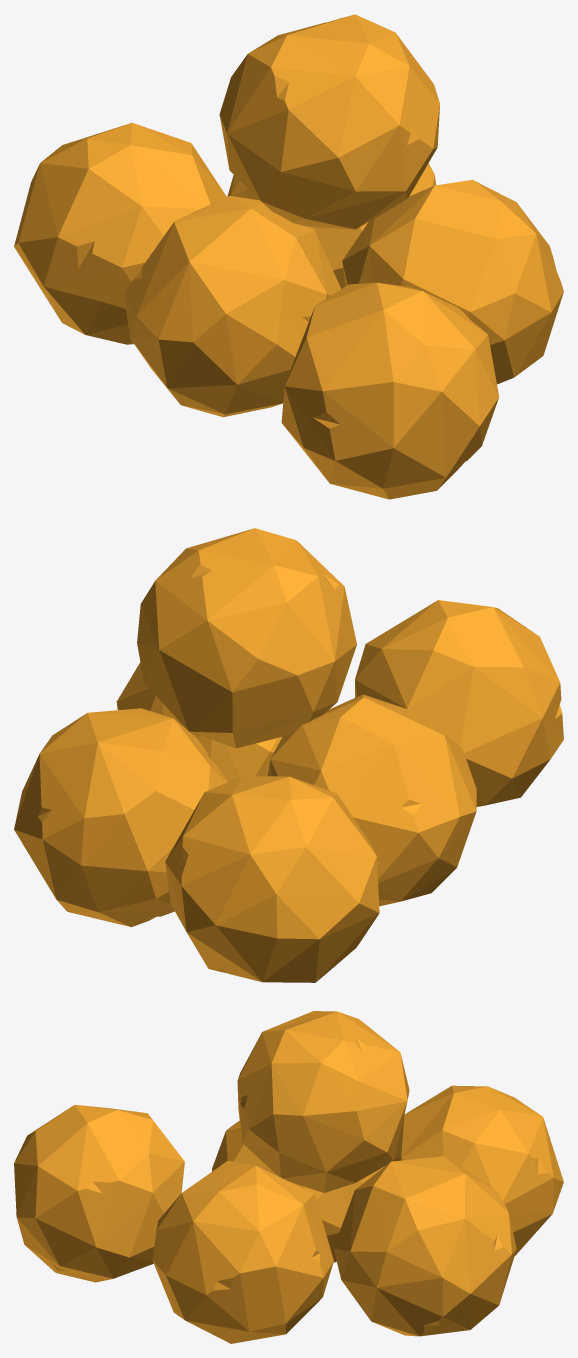
The model's file is SM_Catapult_Ammo_Ball_Pile.fbx.
3 views of the same model, one above another, from view 1: azimuth 30°, elevation 25°; view 2: azimuth 150°, elevation 25°; view 3: azimuth 270°, elevation 25° (orthographic). The views are drawn at different scales.
Visible parts, largest first — view 1: catapult-ammo-ball-pile; view 2: catapult-ammo-ball-pile; view 3: catapult-ammo-ball-pile.
Boxes of the visible parts, x1,y1,x2,y2 form: catapult-ammo-ball-pile: (14, 14, 563, 499); catapult-ammo-ball-pile: (14, 528, 563, 982); catapult-ammo-ball-pile: (14, 1011, 563, 1343).
Bounding box in the file's own units: 0.9201 × 0.7949 × 1.39.
